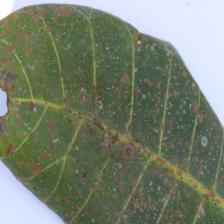red rust: (0, 2, 224, 224)
